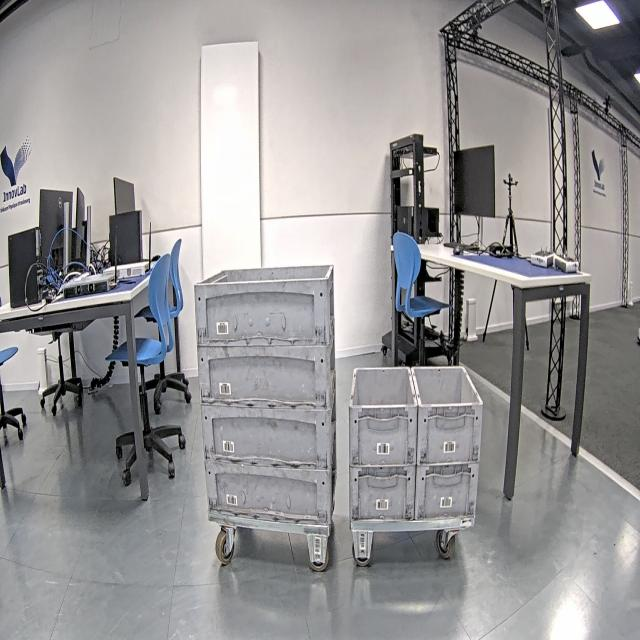Box3G: (195, 264, 333, 344), (197, 336, 335, 407), (201, 404, 337, 469), (204, 458, 334, 520)
Box8G: (350, 373, 418, 466), (418, 372, 483, 462), (349, 464, 416, 522), (416, 463, 478, 519)
